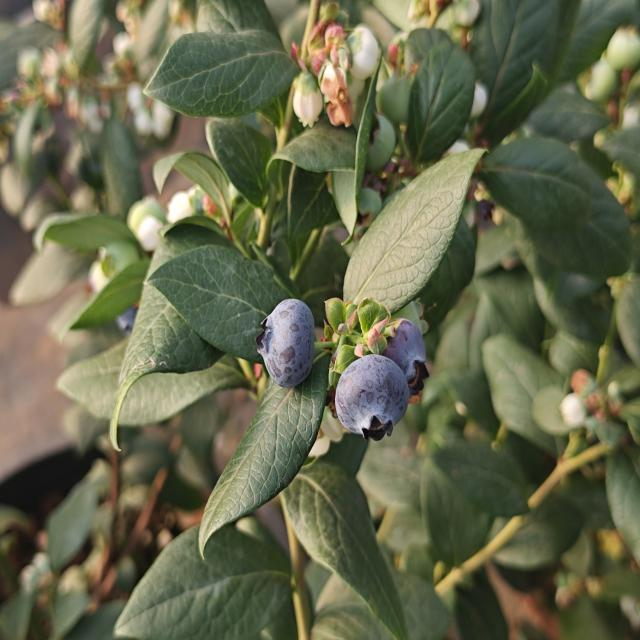ripe: (332, 352, 412, 444), (254, 296, 316, 391), (379, 316, 429, 392), (109, 300, 144, 336)
